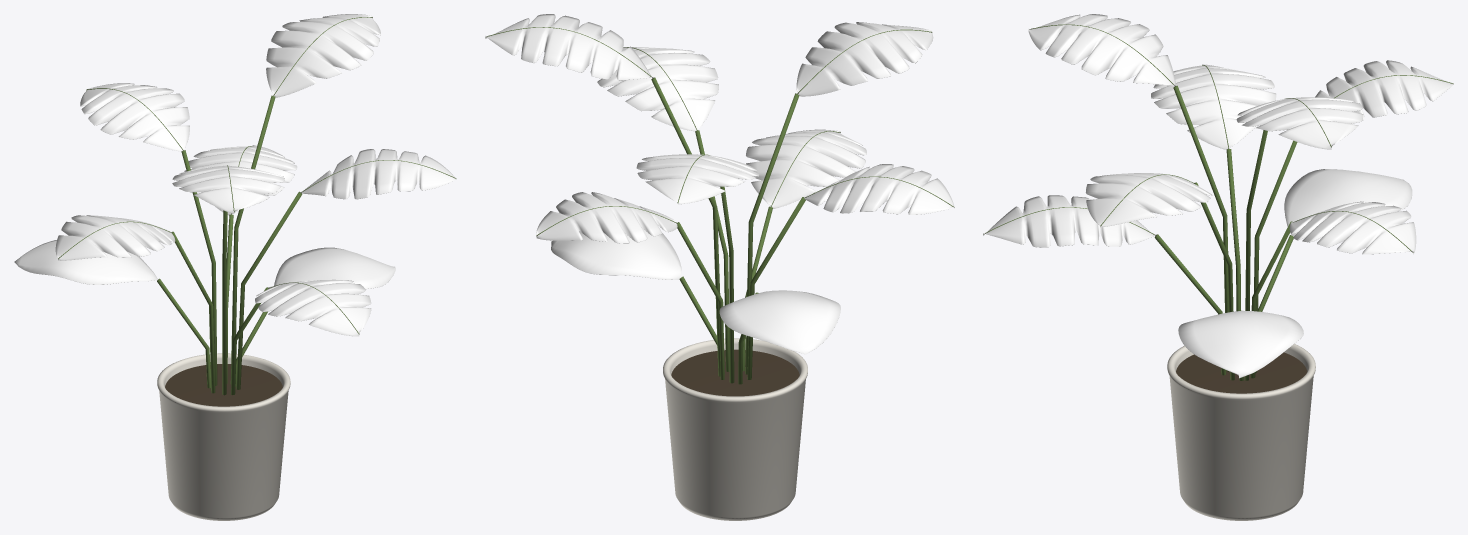
The model's file is plant-monstera-detailed.glb.
3 views of the same model, side by side, from view 1: azimuth 30°, elevation 25°; view 2: azimuth 150°, elevation 25°; view 3: azimuth 270°, elevation 25° (orthographic). The views are drawn at different scales.
Parts seen in each view (by area): view 1: Rounded ceramic planter, Sculpted split monstera leaf.008, Sculpted split monstera leaf.006, Sculpted split monstera leaf.005, Sculpted split monstera leaf.002, Sculpted split monstera leaf.004, Sculpted split monstera leaf.007, Sculpted split monstera leaf.001, Sculpted split monstera leaf, Recessed potting soil, Sculpted split monstera leaf.003, Curved monstera petiole.008 (+6 smaller); view 2: Rounded ceramic planter, Sculpted split monstera leaf.007, Sculpted split monstera leaf.008, Sculpted split monstera leaf.002, Sculpted split monstera leaf.005, Sculpted split monstera leaf.001, Sculpted split monstera leaf.004, Sculpted split monstera leaf.003, Sculpted split monstera leaf, Sculpted split monstera leaf.006, Recessed potting soil, Curved monstera petiole.007 (+5 smaller); view 3: Rounded ceramic planter, Sculpted split monstera leaf.007, Sculpted split monstera leaf.004, Sculpted split monstera leaf, Sculpted split monstera leaf.002, Sculpted split monstera leaf.003, Sculpted split monstera leaf.005, Sculpted split monstera leaf.006, Sculpted split monstera leaf.008, Sculpted split monstera leaf.001, Recessed potting soil, Curved monstera petiole.007 (+5 smaller).
Part boxes in pixels (x1=…): Rounded ceramic planter: x1=157, y1=353, x2=290, y2=520; Sculpted split monstera leaf.008: x1=266, y1=14, x2=380, y2=97; Sculpted split monstera leaf.006: x1=80, y1=83, x2=189, y2=151; Sculpted split monstera leaf.005: x1=301, y1=149, x2=456, y2=199; Sculpted split monstera leaf.002: x1=255, y1=279, x2=371, y2=336; Sculpted split monstera leaf.004: x1=55, y1=215, x2=175, y2=260; Sculpted split monstera leaf.007: x1=172, y1=165, x2=284, y2=213; Sculpted split monstera leaf.001: x1=14, y1=240, x2=158, y2=284; Sculpted split monstera leaf: x1=274, y1=247, x2=395, y2=288; Recessed potting soil: x1=165, y1=364, x2=282, y2=406; Sculpted split monstera leaf.003: x1=184, y1=145, x2=297, y2=215; Curved monstera petiole.008: x1=230, y1=95, x2=275, y2=384; Rounded ceramic planter: x1=663, y1=338, x2=807, y2=520; Sculpted split monstera leaf.007: x1=796, y1=22, x2=933, y2=96; Sculpted split monstera leaf.008: x1=485, y1=14, x2=653, y2=80; Sculpted split monstera leaf.002: x1=746, y1=129, x2=866, y2=208; Sculpted split monstera leaf.005: x1=597, y1=47, x2=718, y2=131; Sculpted split monstera leaf.001: x1=719, y1=290, x2=840, y2=354; Sculpted split monstera leaf.004: x1=804, y1=164, x2=954, y2=214; Sculpted split monstera leaf.003: x1=536, y1=192, x2=677, y2=243; Sculpted split monstera leaf: x1=551, y1=228, x2=681, y2=279; Sculpted split monstera leaf.006: x1=636, y1=154, x2=758, y2=204; Recessed potting soil: x1=671, y1=349, x2=799, y2=396; Curved monstera petiole.007: x1=745, y1=93, x2=799, y2=374; Rounded ceramic planter: x1=1167, y1=344, x2=1315, y2=520; Sculpted split monstera leaf.007: x1=1028, y1=14, x2=1175, y2=85; Sculpted split monstera leaf.004: x1=1151, y1=64, x2=1276, y2=149; Sculpted split monstera leaf: x1=1178, y1=310, x2=1303, y2=378; Sculpted split monstera leaf.002: x1=983, y1=195, x2=1156, y2=247; Sculpted split monstera leaf.003: x1=1289, y1=201, x2=1416, y2=254; Sculpted split monstera leaf.005: x1=1085, y1=173, x2=1212, y2=226; Sculpted split monstera leaf.006: x1=1315, y1=60, x2=1453, y2=120; Sculpted split monstera leaf.008: x1=1236, y1=97, x2=1363, y2=149; Sculpted split monstera leaf.001: x1=1284, y1=169, x2=1412, y2=235; Recessed potting soil: x1=1176, y1=352, x2=1307, y2=393; Curved monstera petiole.007: x1=1173, y1=85, x2=1229, y2=371.
Bounding box in the file's own units: 0.8403 × 0.9 × 0.8245.
